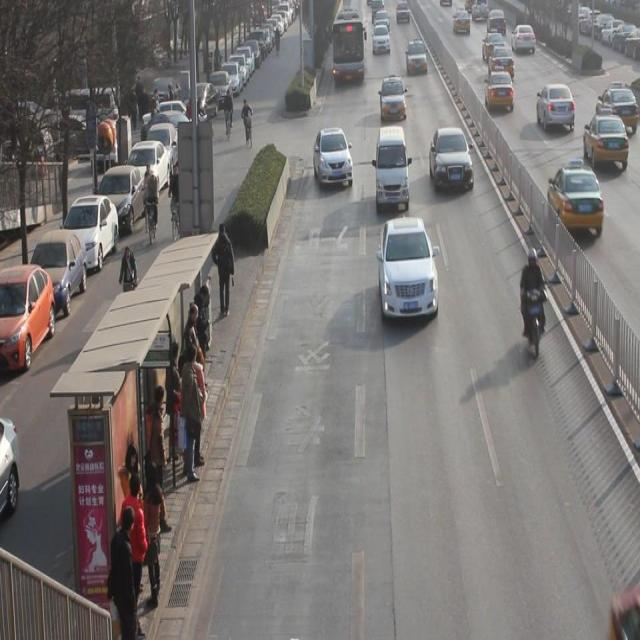car: (377, 217, 439, 323), (548, 158, 603, 238), (584, 104, 629, 172), (430, 128, 473, 192), (314, 126, 353, 192), (596, 79, 640, 133), (535, 84, 575, 130), (485, 66, 513, 112), (381, 76, 406, 123), (488, 42, 515, 80), (406, 39, 428, 76), (511, 24, 537, 55), (483, 29, 505, 60), (372, 25, 390, 54)
truck: (376, 126, 410, 211)
van: (332, 1, 363, 83)
